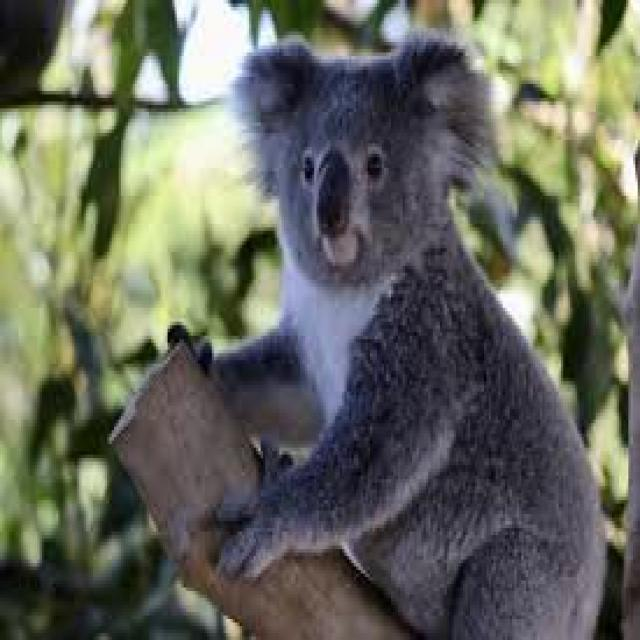koala: (214, 31, 603, 637)
